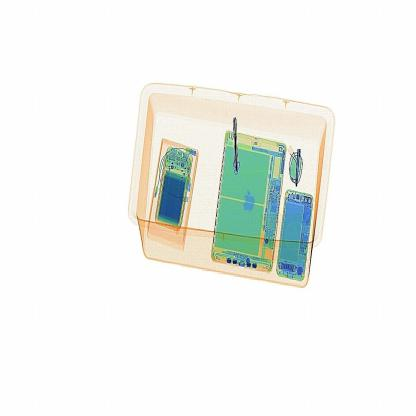knife: (232, 116, 244, 175)
